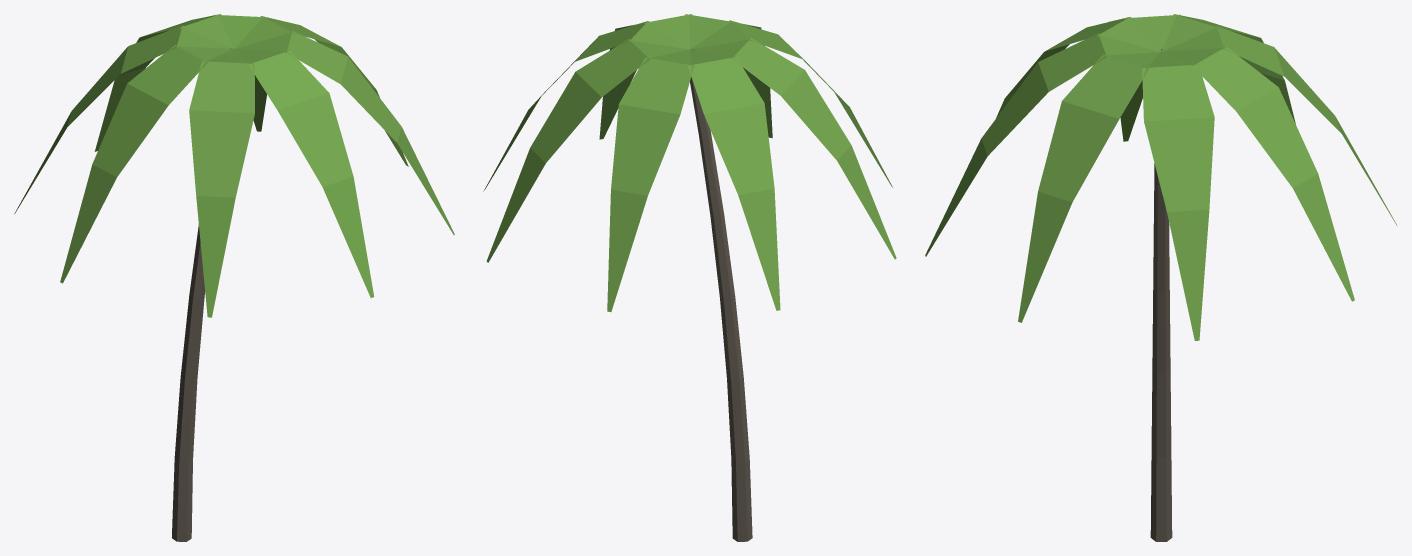
The model's file is tree_13.glb.
3 views of the same model, side by side, from view 1: azimuth 30°, elevation 25°; view 2: azimuth 150°, elevation 25°; view 3: azimuth 270°, elevation 25° (orthographic). The views are drawn at different scales.
Visible parts, largest first — view 1: 树_13; view 2: 树_13; view 3: 树_13.
Boxes of the visible parts, box(x1,y1,x2,y2) form: 树_13: box(14, 14, 454, 541); 树_13: box(483, 14, 896, 541); 树_13: box(925, 14, 1397, 541).
Size of the model in its own units: 7.35 by 9 by 7.35.
